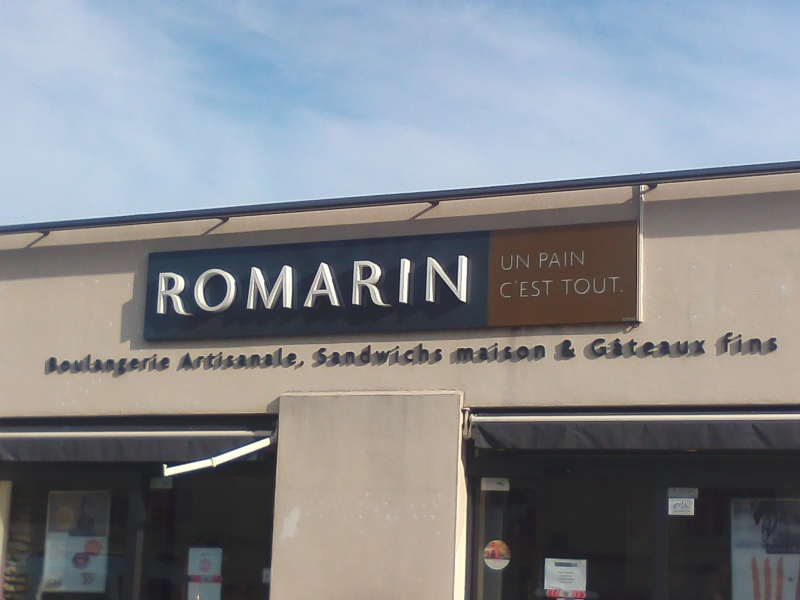text: (161, 251, 176, 317), (177, 251, 192, 317), (193, 251, 208, 317), (209, 251, 224, 317), (225, 251, 240, 317), (241, 251, 256, 317), (257, 251, 272, 317), (273, 251, 288, 317), (289, 251, 304, 317), (305, 251, 320, 317), (321, 251, 336, 317), (337, 251, 352, 317), (353, 251, 368, 317), (369, 251, 384, 317), (385, 251, 400, 317), (401, 251, 416, 317), (417, 251, 432, 317), (433, 251, 448, 317), (449, 251, 464, 317), (465, 251, 474, 317), (65, 352, 80, 379), (81, 352, 96, 379), (97, 352, 112, 379), (113, 352, 128, 379), (129, 352, 144, 379), (145, 352, 160, 379), (321, 341, 336, 367), (337, 341, 352, 367), (353, 341, 368, 367), (369, 341, 384, 367), (385, 341, 400, 367), (401, 341, 416, 367), (417, 341, 432, 367), (193, 346, 208, 371), (209, 346, 224, 371), (225, 346, 240, 371), (241, 346, 256, 371), (257, 346, 272, 371), (273, 346, 288, 371), (289, 346, 304, 371), (51, 352, 64, 379), (161, 352, 174, 379), (561, 275, 576, 298), (577, 275, 592, 298), (593, 275, 608, 298), (609, 275, 624, 298), (593, 337, 608, 360), (609, 337, 624, 360), (625, 337, 640, 360), (641, 337, 656, 360), (657, 337, 672, 360), (673, 337, 688, 360), (689, 337, 704, 360), (737, 332, 752, 355), (753, 332, 768, 355), (465, 340, 480, 362), (481, 340, 496, 362), (497, 340, 512, 362), (513, 340, 528, 362), (529, 340, 544, 362), (561, 339, 576, 361), (722, 332, 736, 355), (433, 341, 445, 367), (513, 279, 528, 299), (529, 279, 544, 299), (513, 253, 528, 272), (545, 250, 560, 269), (561, 250, 576, 269), (499, 279, 512, 299), (561, 569, 576, 586), (501, 253, 512, 272), (769, 332, 778, 355), (157, 251, 160, 317), (545, 279, 554, 299), (577, 250, 586, 269), (186, 346, 192, 371), (458, 340, 464, 362), (545, 340, 550, 362), (539, 250, 544, 269), (705, 337, 709, 360), (529, 253, 532, 272), (318, 341, 320, 367), (557, 569, 560, 586), (305, 346, 306, 371), (625, 275, 626, 298), (591, 337, 592, 360)
